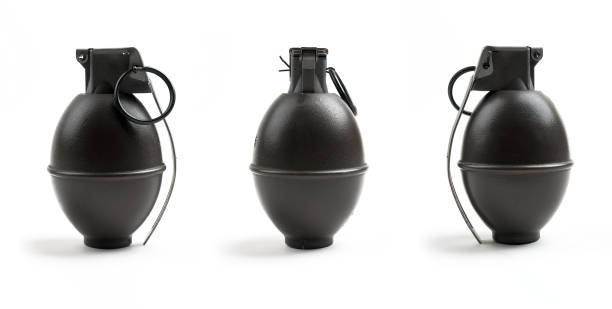e1: (48, 45, 180, 254), (442, 42, 576, 240), (251, 44, 371, 253)
